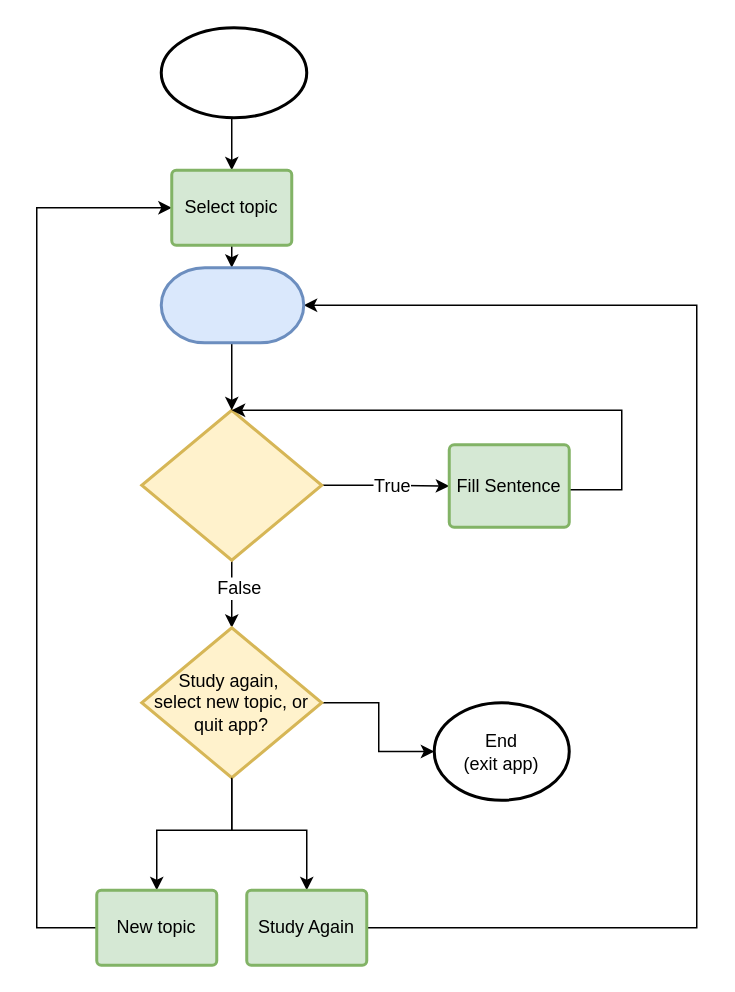
Image size: 735x992. Some labels were removed from this diagram. The shapes that lost their labels are listed below. From the top down, each one's centre as x and y in pixels, then its label:
At point (233, 72): "Start (open app)".
At point (231, 305): "Prepare Sentences".
At point (231, 484): "Sentences left to fill?".
